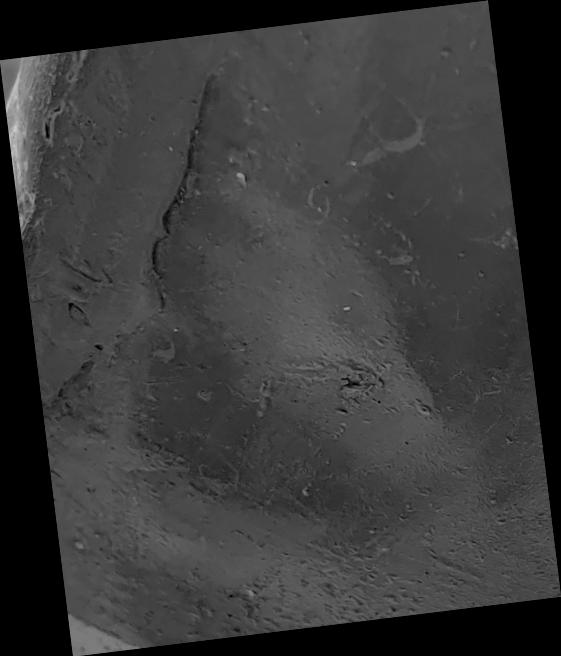dent: (1, 1, 560, 656)
